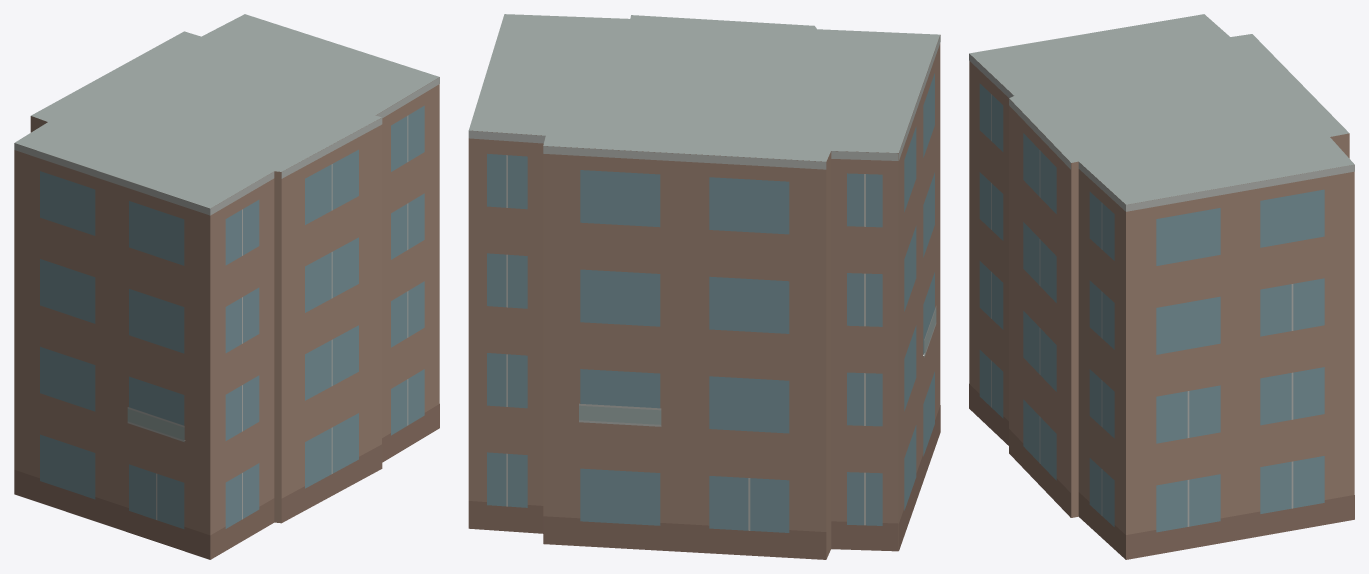
File: survey-upis-32498079.glb
3 renders of one model, left to right at view 1: azimuth 30°, elevation 25°; view 2: azimuth 150°, elevation 25°; view 3: azimuth 270°, elevation 25°, orthographic. The views are drawn at different scales.
Visible parts, largest first — view 1: survey-upis-32498079.tmp; view 2: survey-upis-32498079.tmp; view 3: survey-upis-32498079.tmp.
Boxes of the visible parts, x1,y1,x2,y2 form: survey-upis-32498079.tmp: (14, 14, 439, 559); survey-upis-32498079.tmp: (468, 14, 940, 559); survey-upis-32498079.tmp: (969, 14, 1354, 559).
Bounding box in the file's own units: 14.06 × 12.2 × 12.02.
